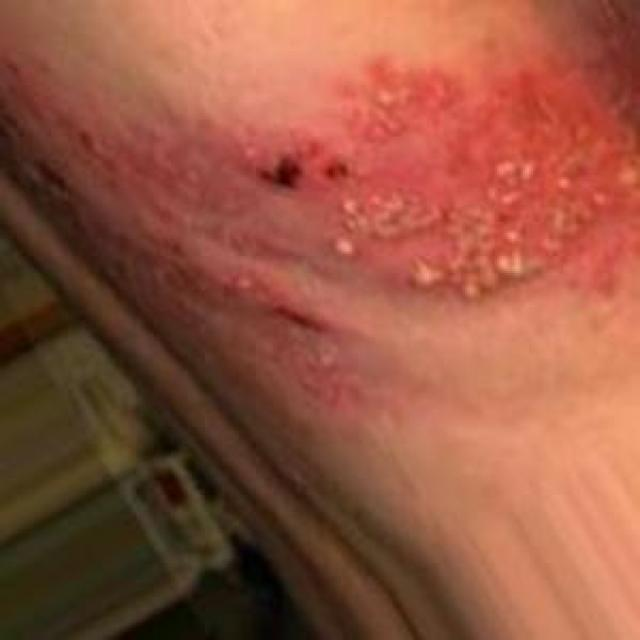Shingles: (330, 65, 615, 298)
